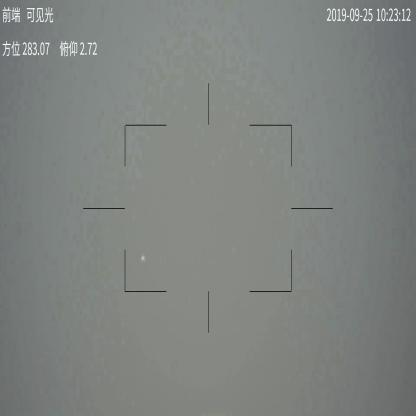uav: (140, 253, 146, 262)
